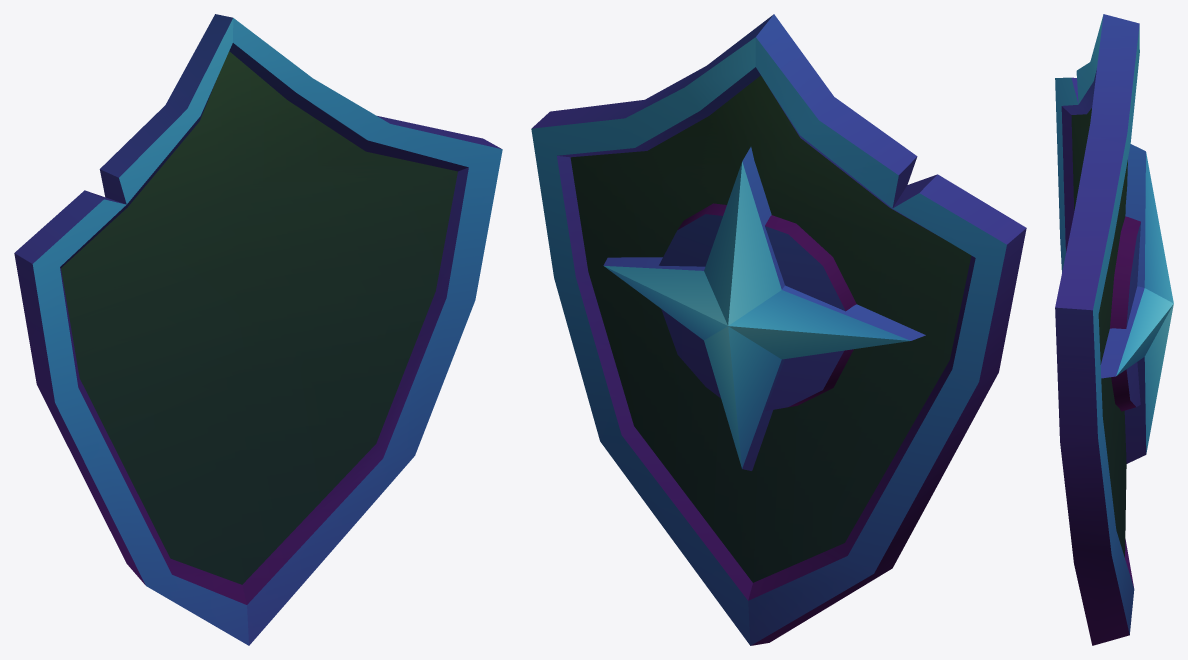
Rendered from GAM0210011.fbx.
3 renders of one model, left to right at view 1: azimuth 30°, elevation 25°; view 2: azimuth 150°, elevation 25°; view 3: azimuth 270°, elevation 25°, orthographic.
Visible parts, largest first — view 1: smGAM0210011; view 2: smGAM0210011; view 3: smGAM0210011.
Boxes of the visible parts, x1=… form: smGAM0210011: x1=14, y1=14, x2=502, y2=645; smGAM0210011: x1=531, y1=14, x2=1026, y2=645; smGAM0210011: x1=1055, y1=14, x2=1173, y2=645.
Size of the model in its own units: 60.17 by 76.66 by 13.16.
1 material, 1 textured.
